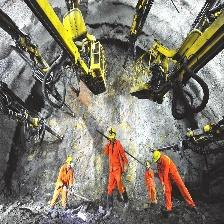Person: (152, 148, 198, 214), (98, 122, 126, 215), (48, 154, 76, 215), (143, 160, 155, 208)
helmet: (109, 127, 118, 145), (153, 147, 161, 164), (66, 156, 74, 168)
vest: (106, 140, 121, 171)
